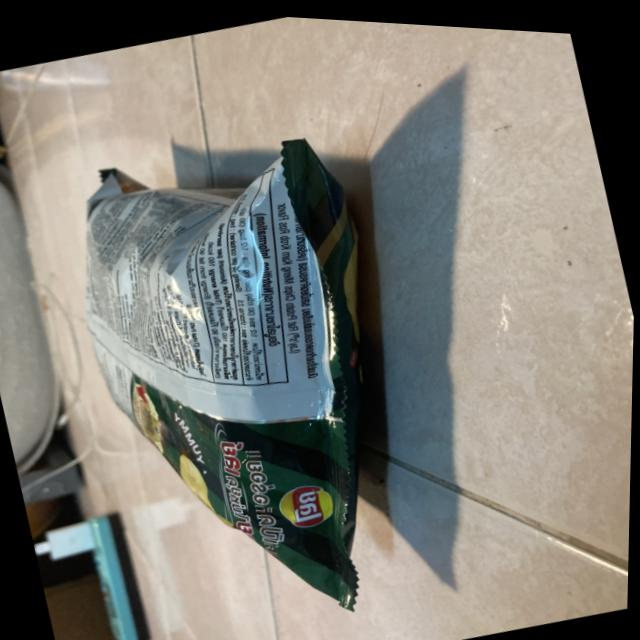Laygreen: (17, 76, 449, 640)
